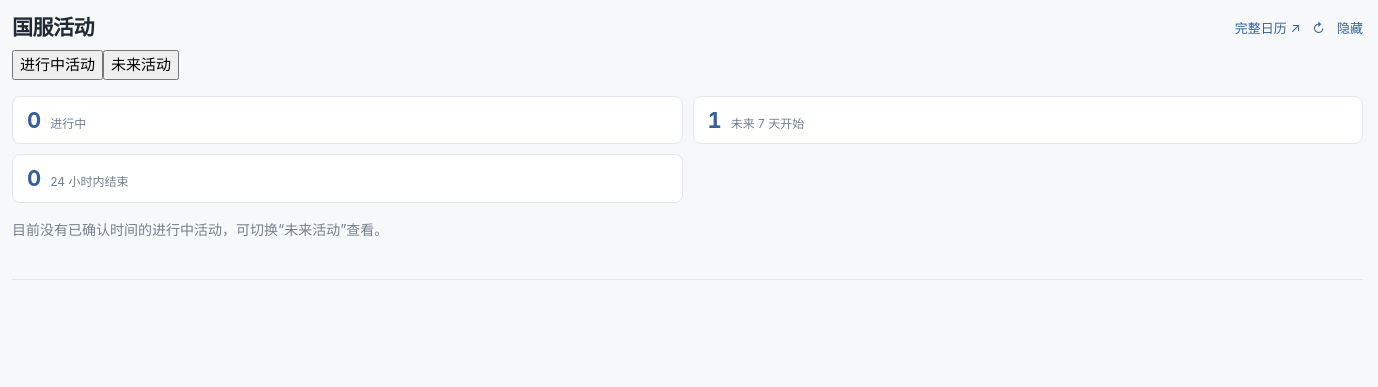
Scenario: 首页公开活动 › 未来活动显示官方确认的开始倒计时，同时保留维护前结束的原始条件
Expected: the text "目前没有已确认时间的进行中活动，可切换“未来活动”查看。" is shown, [12,221,388,238]
Click the button "未来活动" at (141,65), box [103,50,179,80]
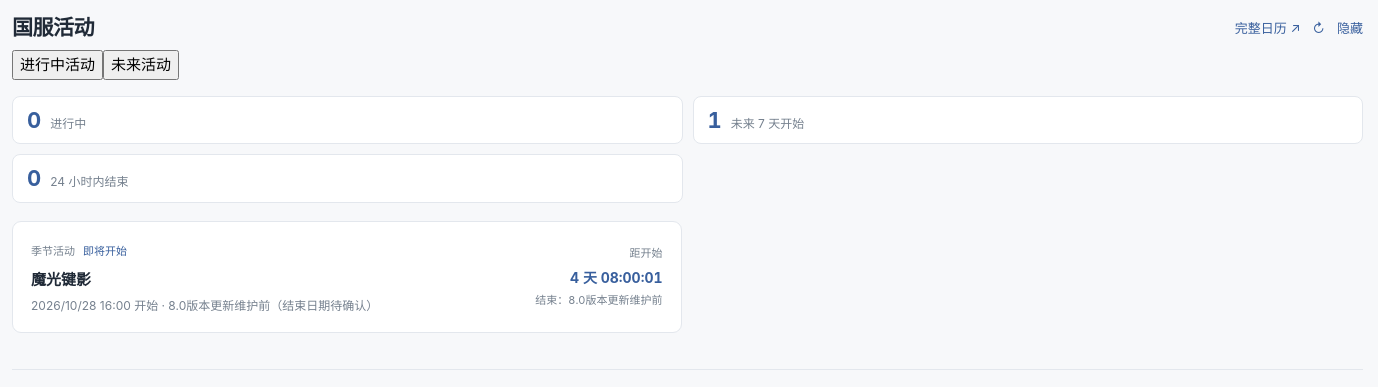
Expected: the link "魔光键影" is shown, [31,270,91,289]
Expected: the text "2026/10/28 16:00 开始 · 8.0版本更新维护前（结束日期待确认）" is shown, [31,298,378,312]
Expected: the text "距开始" is shown, [630,246,662,260]
